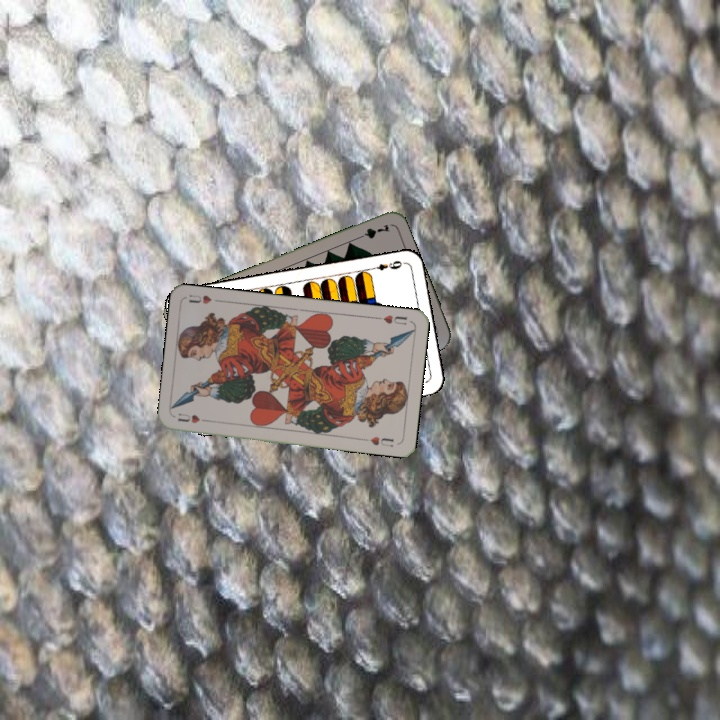E9: (366, 256, 404, 273)
G7: (352, 220, 392, 242)
HU: (174, 409, 212, 426), (372, 311, 410, 327)
